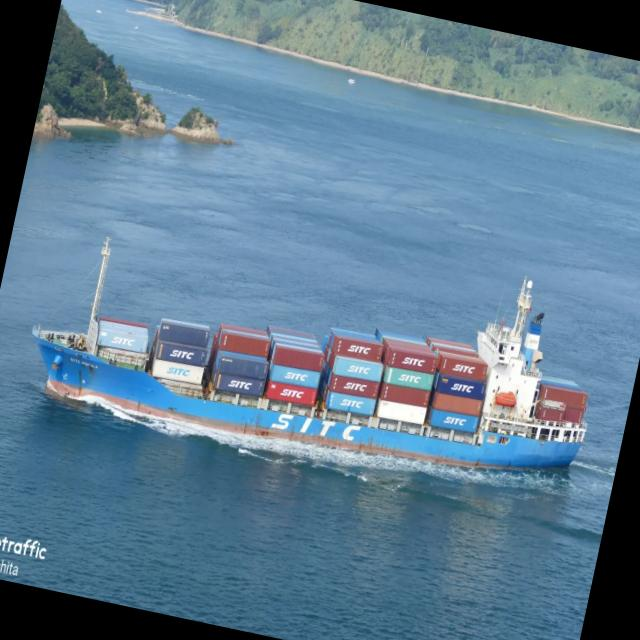Cargo: (32, 239, 586, 467)
